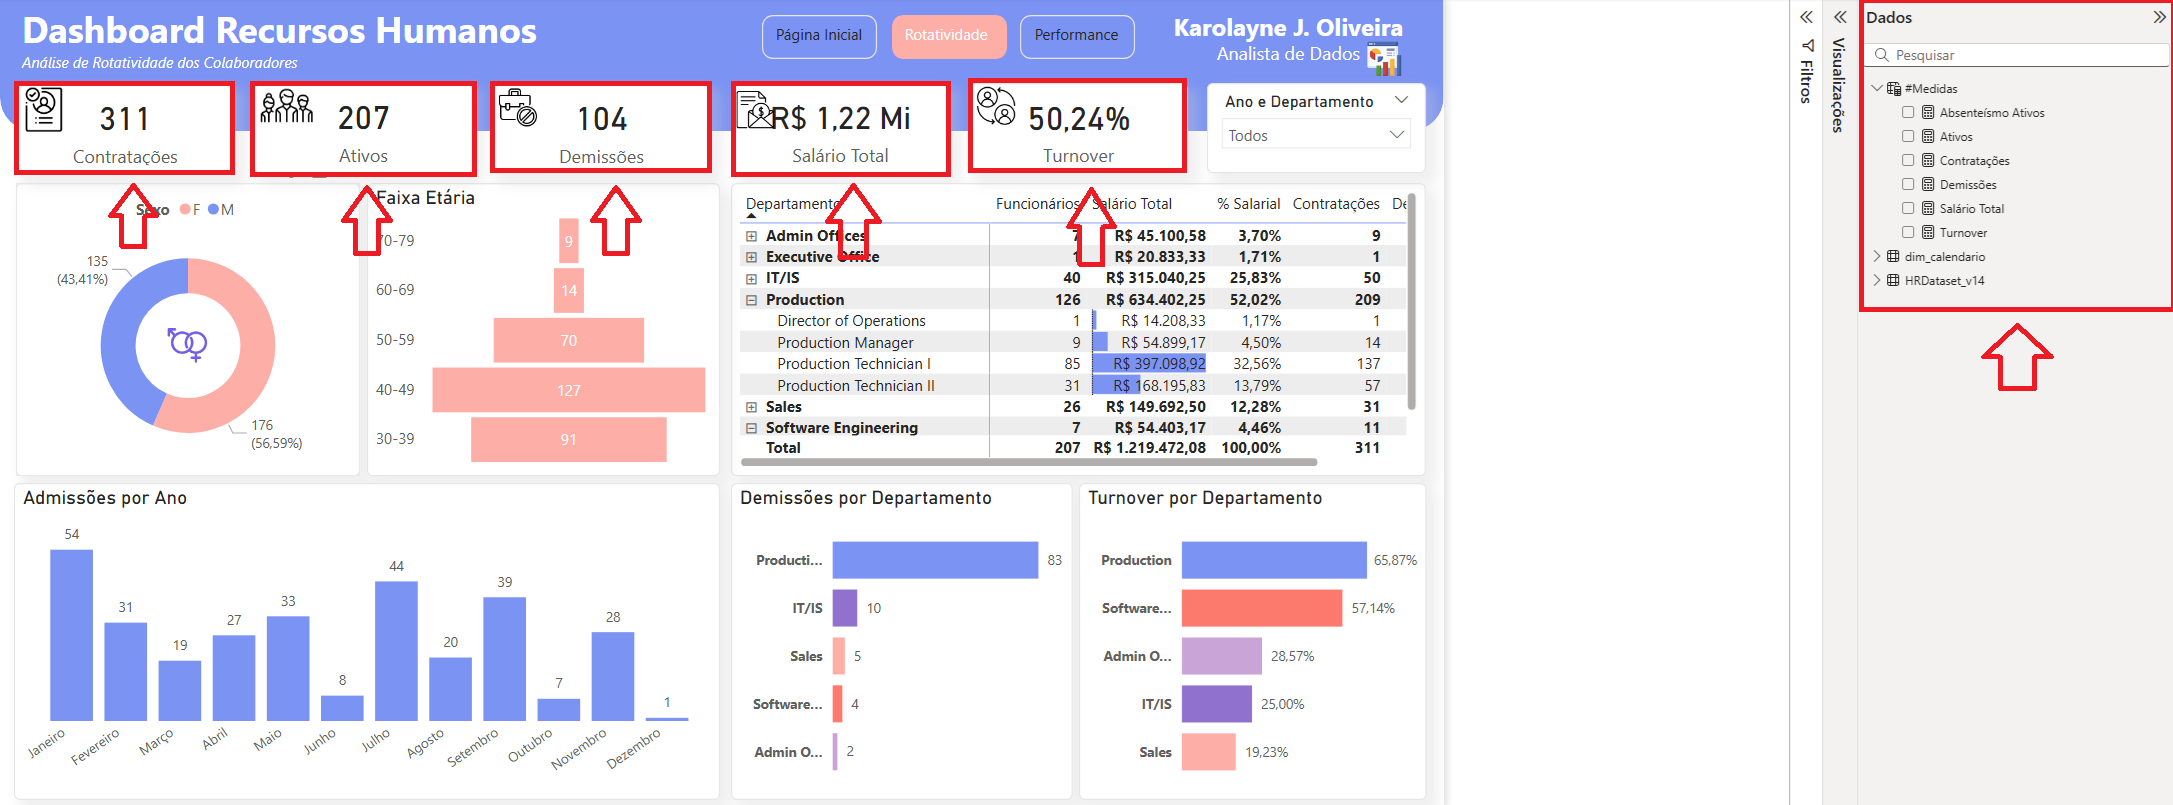

This screenshot's page, from the dashboard's own definition file:
{"tool":"powerbi","page":{"name":"Rotatividade","canvas":[1280,720],"ordinal":1},"visuals":[{"type":"shape","box":[0,0,1280.4,117.9],"z":0},{"type":"card","fields":{"Values":["#Medidas.Salario Total"]},"box":[647.8,75.4,194.2,79.8],"z":1000},{"type":"donutChart","fields":{"Y":["CountNonNull(HRDataset_v14.GenderID)"],"Category":["HRDataset_v14.Sex"]},"box":[14.2,164,305,259.8],"z":2000},{"type":"pivotTable","fields":{"Rows":["HRDataset_v14.Department","HRDataset_v14.Position"],"Values":["#Medidas.Ativos","#Medidas.Base Salarial","Divide(#Medidas.Base Salarial, ScopedEval(#Medidas.Base Salarial, []))","#Medidas.Contratações","#Medidas.Demissões"]},"box":[647.8,164.2,616.4,259.7],"z":3000},{"type":"funnel","title":"Faixa Etária","fields":{"Y":["CountNonNull(HRDataset_v14.Sex)"],"Category":["HRDataset_v14.Intervalo"]},"box":[325.4,164,313,259.8],"z":4000},{"type":"columnChart","title":"Admissões por Ano","fields":{"Y":["#Medidas.Contratações"],"Category":["dim_calendario.Nome do Mês"]},"box":[12.4,430,626,281.1],"z":5000},{"type":"slicer","fields":{"Values":["dim_calendario.Ano","HRDataset_v14.Department"]},"box":[1070.2,75.4,194.2,79.8],"z":6000},{"type":"card","fields":{"Values":["#Medidas.Funcionarios Ativos"]},"box":[225.4,74.5,194.2,80.7],"z":7000},{"type":"card","fields":{"Values":["#Medidas.Funcionarios desligados 2"]},"box":[436.6,75.4,194.2,80.7],"z":8000},{"type":"card","fields":{"Values":["#Medidas.% Turnover"]},"box":[859,75.4,194.2,79.8],"z":9000},{"type":"barChart","title":"Demissões por Departamento","fields":{"Category":["HRDataset_v14.Department"],"Y":["#Medidas.Demissões"]},"box":[648.2,430,303.3,281.1],"z":10000},{"type":"textbox","box":[14.2,0,480.6,78],"z":11000},{"type":"barChart","title":"Turnover por Departamento","fields":{"Category":["HRDataset_v14.Department"],"Y":["#Medidas.Turnover"]},"box":[956.7,430,307.7,281.1],"z":12000},{"type":"textbox","box":[1022.7,5.4,240,72.5],"z":13000},{"type":"card","fields":{"Values":["#Medidas.Contrações 2"]},"box":[14.2,75.4,194.2,80.7],"z":14000},{"type":"image","box":[143.6,285.5,45.2,45.2],"z":15000},{"type":"image","box":[1201.5,32.8,51.4,41.7],"z":16000},{"type":"image","box":[12.4,74.5,53.2,48.8],"z":17000},{"type":"image","box":[225.2,67.4,57.6,55.9],"z":18000},{"type":"image","box":[859.2,73.6,47.9,44.3],"z":19000},{"type":"image","box":[436.3,70,46.1,53.2],"z":20000},{"type":"image","box":[648.2,74.5,42.6,48.8],"z":21000},{"type":"shape","box":[675.7,15.1,102,39],"z":22000},{"type":"textbox","box":[675.4,18.7,102.2,30.6],"z":23000},{"type":"shape","box":[790.9,15.1,102,39],"z":24000},{"type":"shape","box":[904.4,15.1,102,39],"z":25000},{"type":"textbox","box":[797,18.7,96.3,30.6],"z":26000},{"type":"textbox","box":[912.7,18.7,94,40.3],"z":27000},{"type":"actionButton","box":[675.7,14.2,102,39.9],"z":28000},{"type":"actionButton","box":[905.3,15.1,100.2,39.9],"z":29000}]}

Visuals, with their boxes on the page's 1280x720 design canvas (x1, y1, x2, y2). These are canvas units, not pixel positions in the 2173x805 screenshot, which may show the page scaled, cropped or inside an application window:
shape: locate(0, 0, 1280, 118)
card - #Medidas.Salario Total: locate(648, 75, 842, 155)
donutChart - CountNonNull(HRDataset_v14.GenderID) x HRDataset_v14.Sex: locate(14, 164, 319, 424)
pivotTable - HRDataset_v14.Department x HRDataset_v14.Position: locate(648, 164, 1264, 424)
"Faixa Etária" funnel: locate(325, 164, 638, 424)
"Admissões por Ano" columnChart: locate(12, 430, 638, 711)
slicer - dim_calendario.Ano x HRDataset_v14.Department: locate(1070, 75, 1264, 155)
card - #Medidas.Funcionarios Ativos: locate(225, 74, 420, 155)
card - #Medidas.Funcionarios desligados 2: locate(437, 75, 631, 156)
card - #Medidas.% Turnover: locate(859, 75, 1053, 155)
"Demissões por Departamento" barChart: locate(648, 430, 952, 711)
textbox: locate(14, 0, 495, 78)
"Turnover por Departamento" barChart: locate(957, 430, 1264, 711)
textbox: locate(1023, 5, 1263, 78)
card - #Medidas.Contrações 2: locate(14, 75, 208, 156)
image: locate(144, 286, 189, 331)
image: locate(1202, 33, 1253, 74)
image: locate(12, 74, 66, 123)
image: locate(225, 67, 283, 123)
image: locate(859, 74, 907, 118)
image: locate(436, 70, 482, 123)
image: locate(648, 74, 691, 123)
shape: locate(676, 15, 778, 54)
textbox: locate(675, 19, 778, 49)
shape: locate(791, 15, 893, 54)
shape: locate(904, 15, 1006, 54)
textbox: locate(797, 19, 893, 49)
textbox: locate(913, 19, 1007, 59)
actionButton: locate(676, 14, 778, 54)
actionButton: locate(905, 15, 1006, 55)
